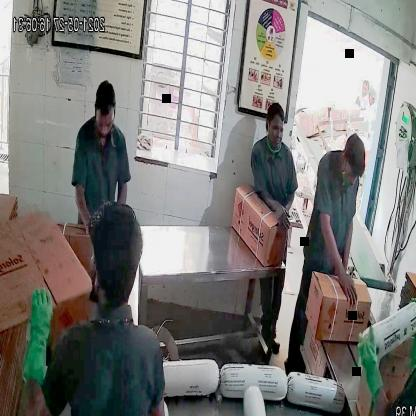no_goggles: (94, 112, 116, 136)
